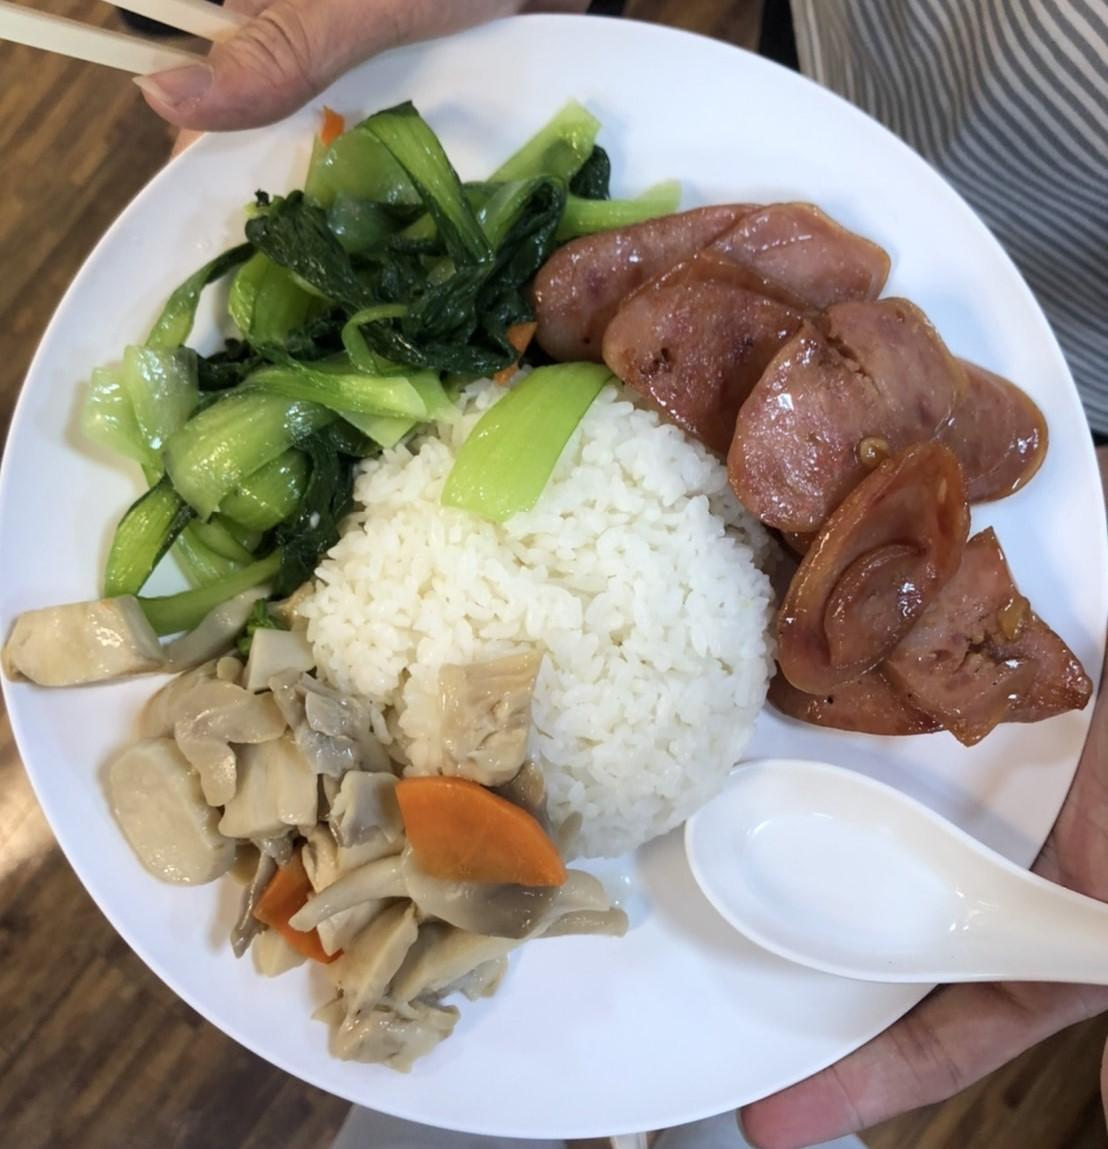big fried chicken leg: (5, 28, 1108, 1136)
big herbal chicken leg: (295, 356, 779, 849)
braised fish fillet: (10, 598, 626, 1081), (52, 93, 605, 613)
braised pork: (551, 188, 1091, 738)
